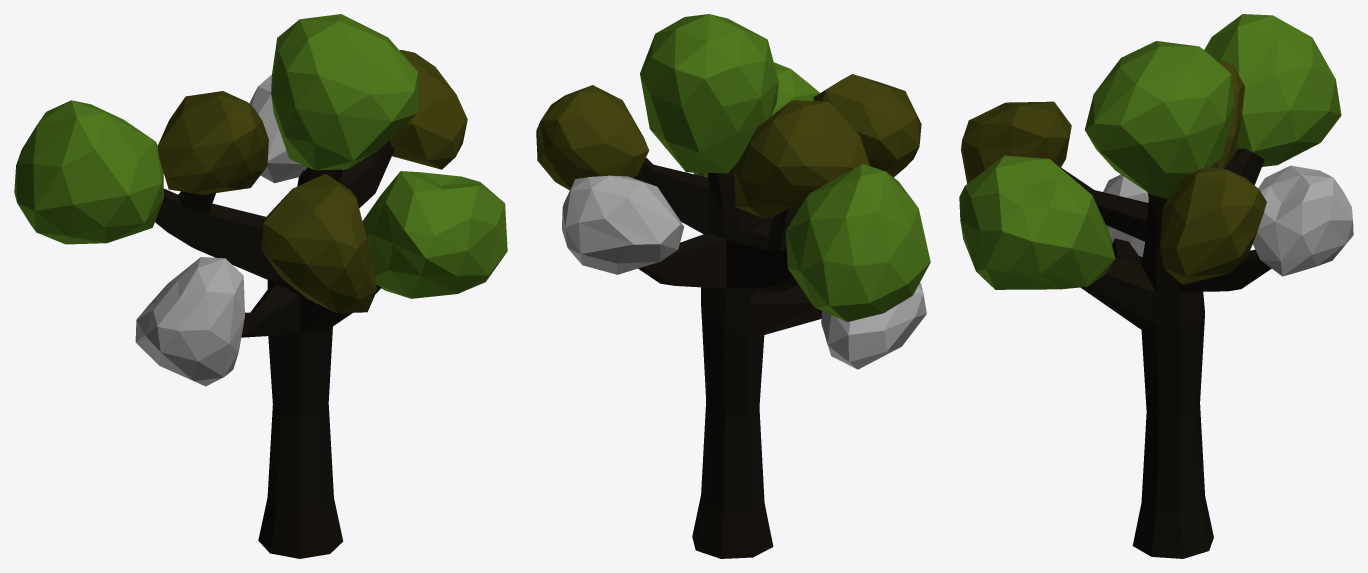
Rendered from pohon3.obj.
The picture shows the model from 3 angles, left to right: view 1: azimuth 30°, elevation 25°; view 2: azimuth 150°, elevation 25°; view 3: azimuth 270°, elevation 25°; orthographic projection.
Parts seen in each view (by area): view 1: Arbre_Normal_Cylinder.002; view 2: Arbre_Normal_Cylinder.002; view 3: Arbre_Normal_Cylinder.002.
Boxes of the visible parts, x1,y1,x2,y2 form: Arbre_Normal_Cylinder.002: (14, 14, 507, 558); Arbre_Normal_Cylinder.002: (536, 14, 930, 558); Arbre_Normal_Cylinder.002: (959, 14, 1353, 558).
Bounding box in the file's own units: 3.18 × 3.92 × 2.75.
